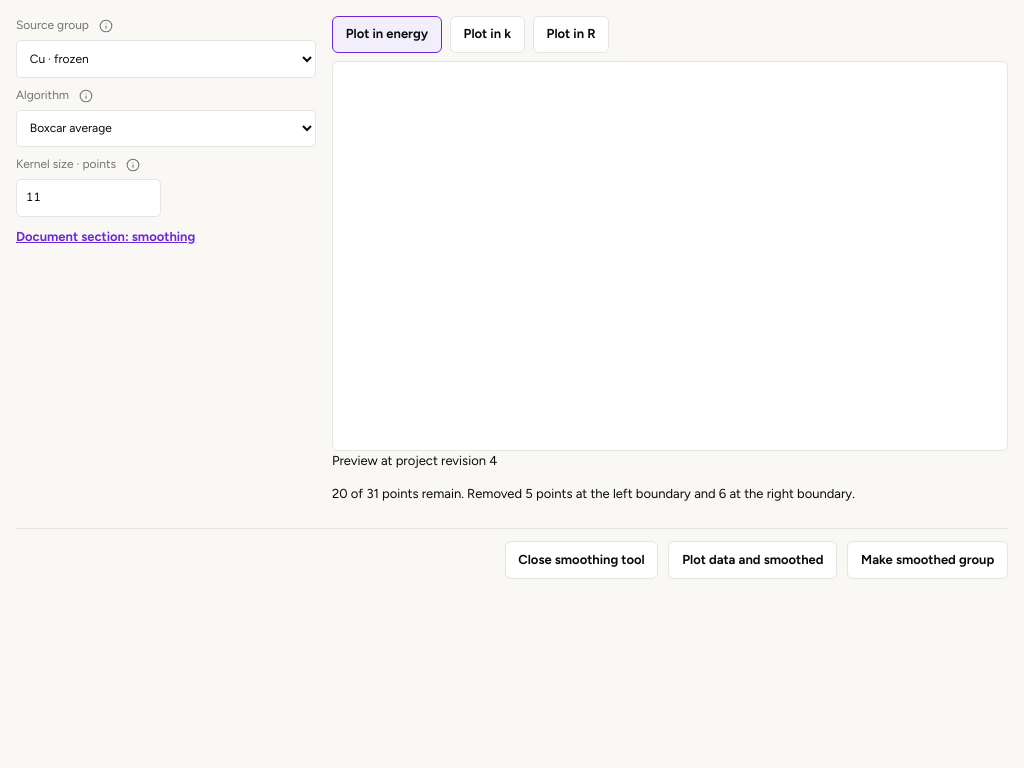
Test case: blocks boxcar settings above the supported bounds before preview
expect the button "Make smoothed group" is enabled: met, box [847,541,1008,579]
Select "Boxcar average" in the dropdown labelled "Algorithm" at (166, 128), box [16,110,316,147]
Replace the text in the number field labelled "Kernel size · points" with "502" at (88, 198), box [16,179,161,217]
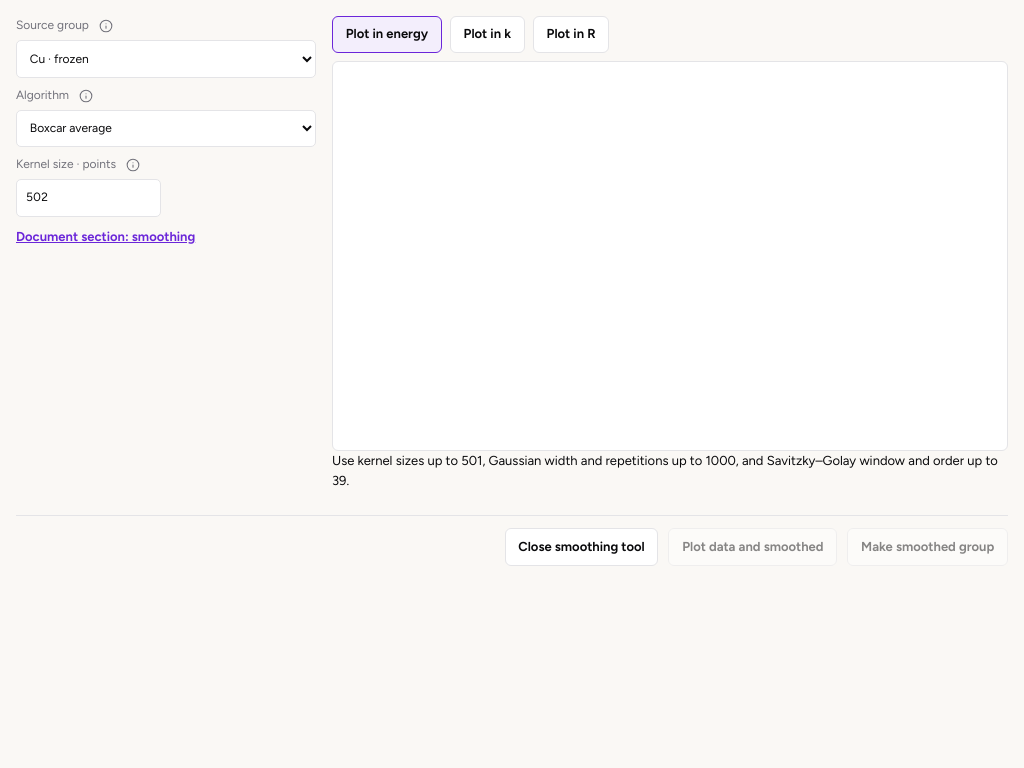
expect the button "Plot data and smoothed" is disabled: met, box [668,528,837,566]
expect the button "Make smoothed group" is disabled: met, box [847,528,1008,566]
expect the message shows "Use kernel sizes up to 501": met, box [332,453,998,488]
